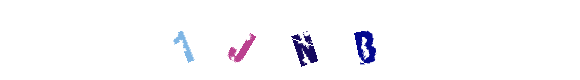1: (186, 0, 266, 80)
B: (294, 0, 374, 80)
J: (210, 0, 290, 80)
N: (249, 0, 329, 80)
